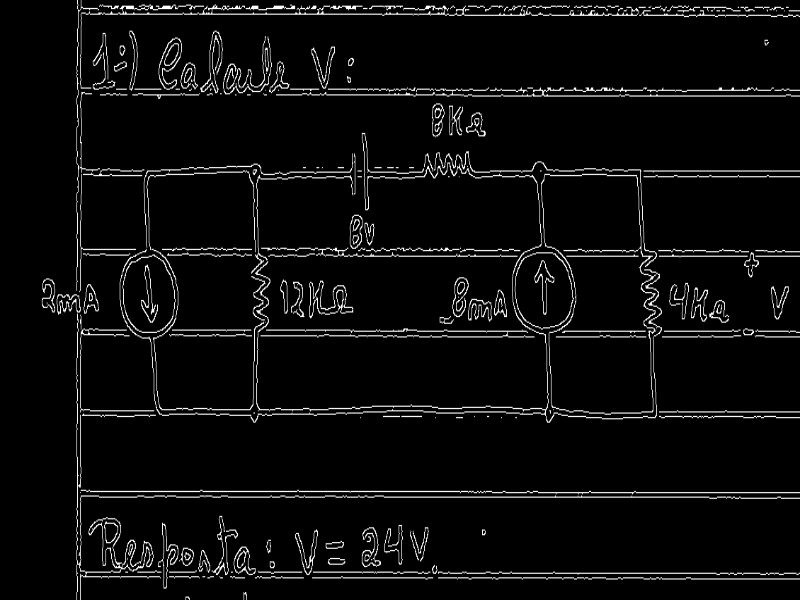-: (326, 554, 347, 570), (323, 538, 347, 551), (111, 59, 129, 74), (740, 325, 757, 340)
1: (91, 30, 116, 94), (278, 278, 290, 316)
2: (359, 523, 382, 571), (289, 278, 307, 320), (39, 275, 56, 314)
4: (665, 278, 690, 320), (383, 524, 406, 567)
8: (451, 271, 470, 318), (347, 211, 366, 256), (429, 99, 445, 140)
A: (83, 282, 100, 317), (492, 287, 509, 322)
V: (295, 524, 321, 577), (310, 43, 337, 91), (769, 278, 790, 322), (409, 525, 431, 566), (364, 219, 376, 250)
k: (307, 277, 327, 319), (689, 283, 710, 322), (447, 103, 465, 137)
m: (466, 296, 495, 322), (53, 291, 81, 316)
